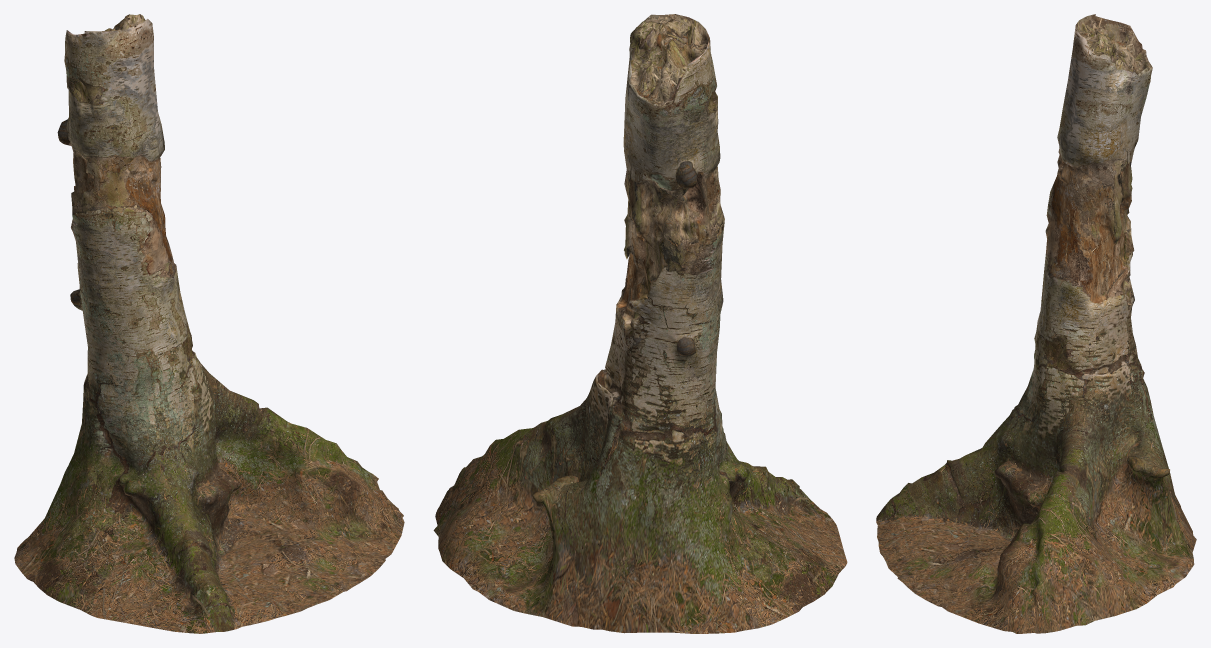
File: Birch_Tree_Stump20.fbx
The picture shows the model from 3 angles, left to right: view 1: azimuth 30°, elevation 25°; view 2: azimuth 150°, elevation 25°; view 3: azimuth 270°, elevation 25°; orthographic projection. The views are drawn at different scales.
Visible parts, largest first — view 1: Birch_Tree_Stump20; view 2: Birch_Tree_Stump20; view 3: Birch_Tree_Stump20.
Part boxes in pixels (bbox=[...]): Birch_Tree_Stump20: bbox=[14, 14, 404, 633]; Birch_Tree_Stump20: bbox=[433, 14, 847, 633]; Birch_Tree_Stump20: bbox=[876, 14, 1196, 633].
Bounding box in the file's own units: 63 × 90.36 × 53.03.
1 material, 1 textured.
